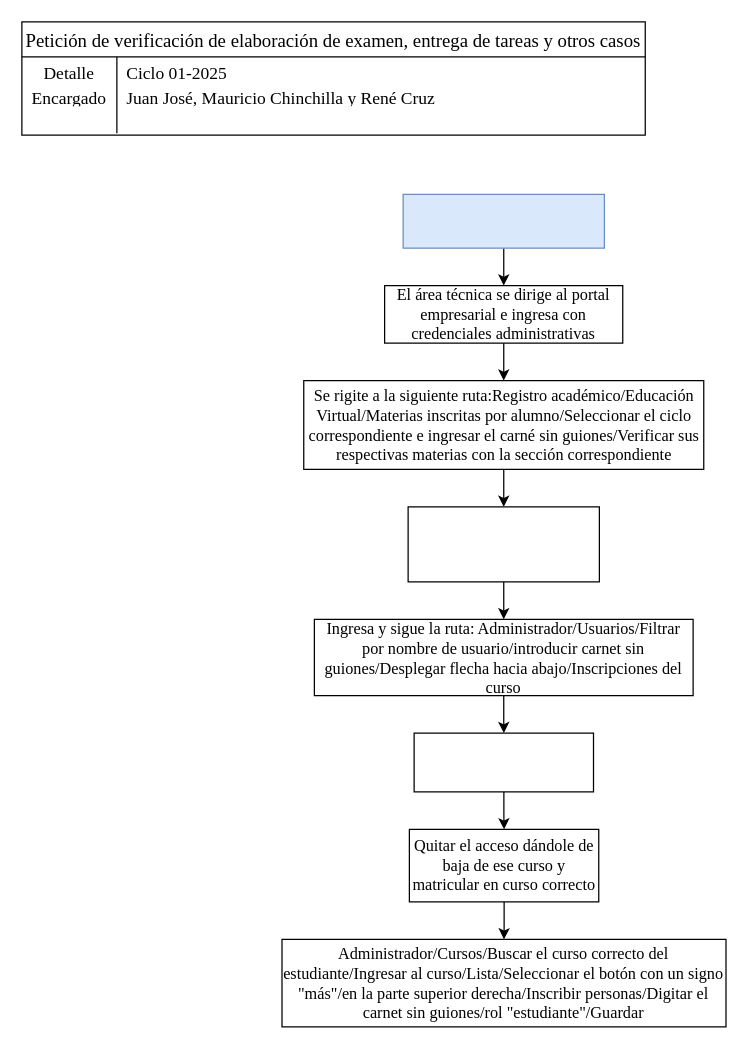
Some shapes in this 749 by 1049 pixel diagram are drawn without their labels. The centre of each missing label's shape, as x and y in pixels:
"El área técnica ingresa a Blackboard con credenciales administrativas" goes at [503,544].
"Estudiante matriculado en un curso incorrecto Blakcboard" goes at [503,220].
"Verificar cual es el curso en el que está inscrito incorrectamente" goes at [503,762].
